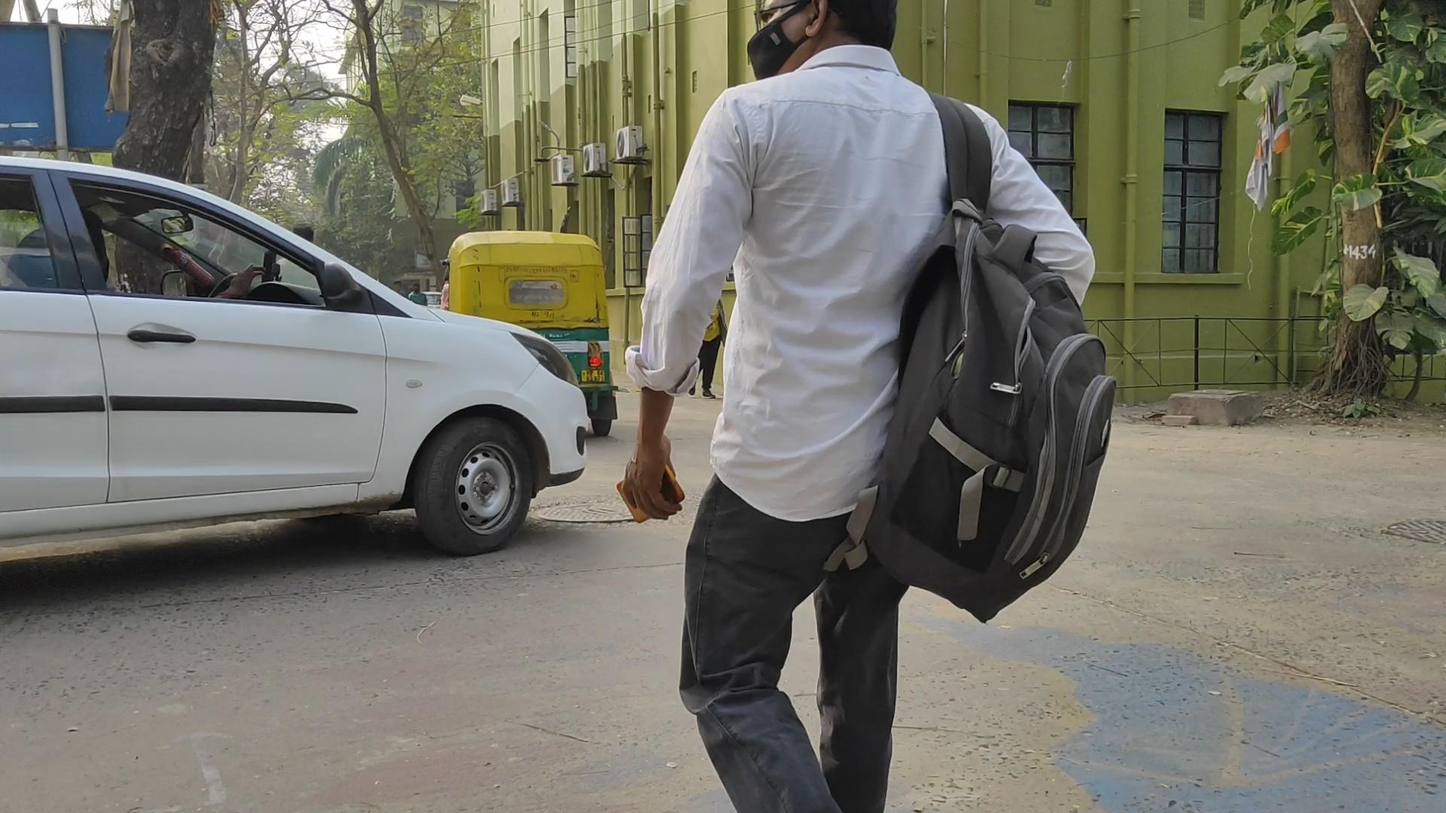Auto: (444, 230, 616, 446)
car: (2, 148, 591, 556)
